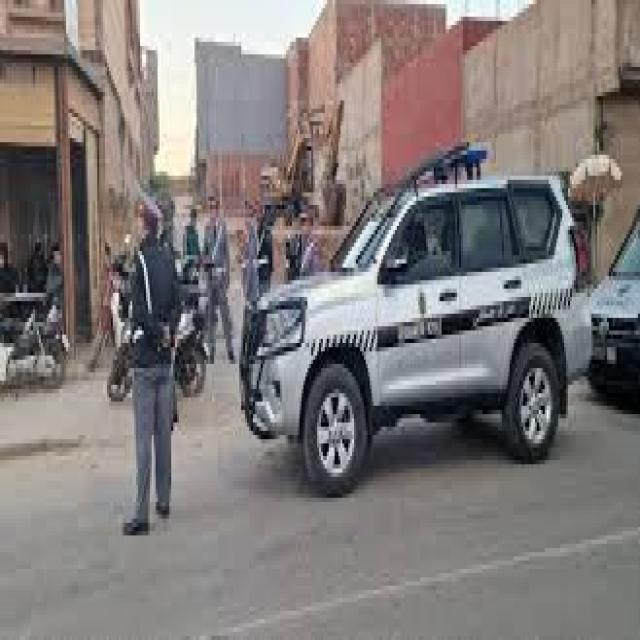gendarme car: (237, 128, 598, 506)
